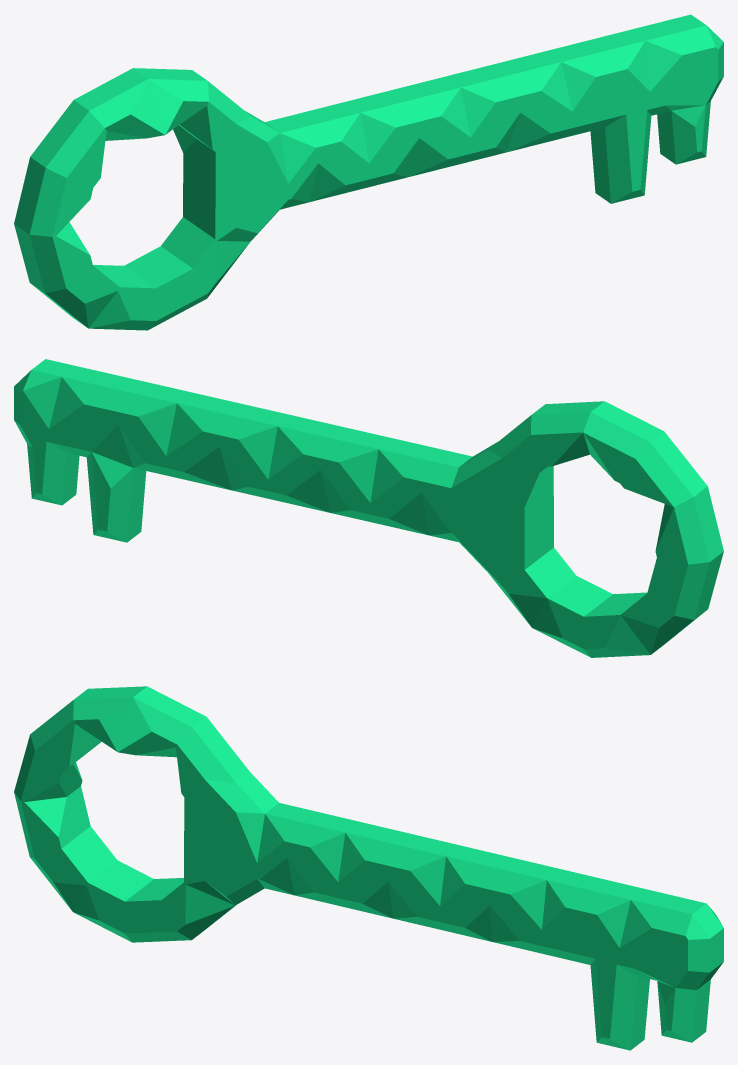
File: green_key.glb
The picture shows the model from 3 angles, top to bottom: view 1: azimuth 30°, elevation 25°; view 2: azimuth 150°, elevation 25°; view 3: azimuth 330°, elevation 25°; orthographic projection. The views are drawn at different scales.
Parts seen in each view (by area): view 1: Circle.026; view 2: Circle.026; view 3: Circle.026.
Part boxes in pixels (left/top/right/bottom): Circle.026: left=14, top=14, right=723, bottom=330; Circle.026: left=14, top=359, right=723, bottom=657; Circle.026: left=14, top=686, right=723, bottom=1050.
Bounding box in the file's own units: 1.89 × 0.6454 × 0.2163.
Materials: 1 (1 with a texture image).
